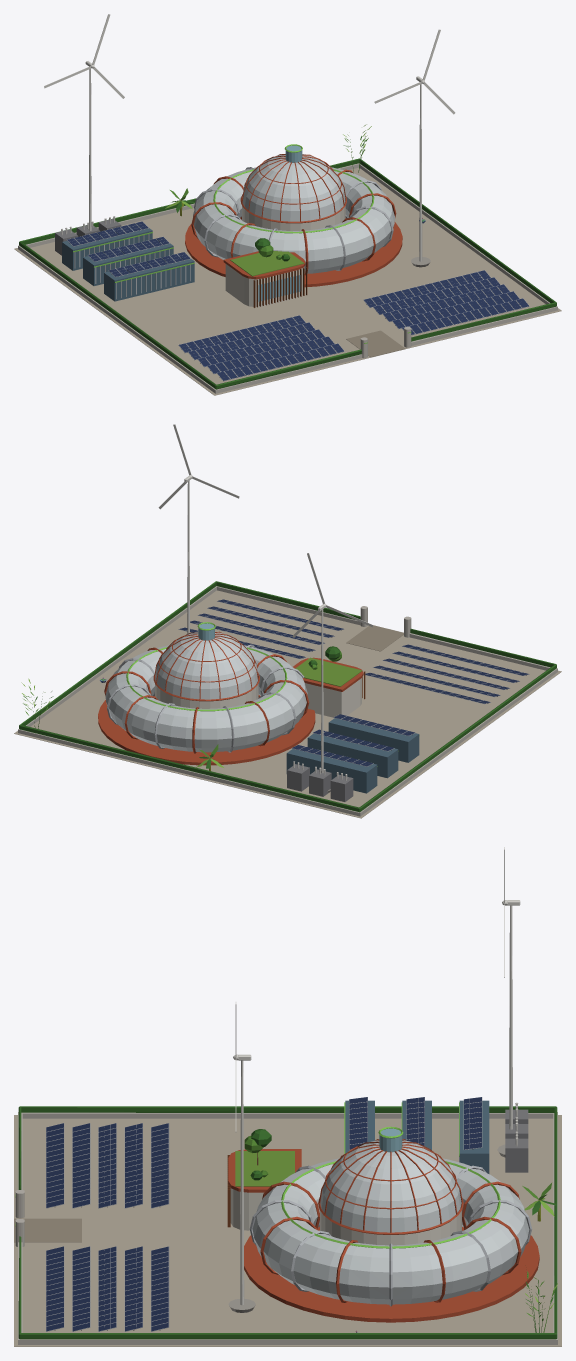
The model's file is power_plant.glb.
3 renders of one model, top to bottom at view 1: azimuth 30°, elevation 25°; view 2: azimuth 150°, elevation 25°; view 3: azimuth 270°, elevation 25°, orthographic. The views are drawn at different scales.
Visible parts, largest first — view 1: body, windows; view 2: body, windows; view 3: body, windows.
Part boxes in pixels (x1,y1,x2,y2): body: [14, 14, 561, 395]; windows: [73, 144, 411, 343]; body: [14, 424, 561, 818]; windows: [126, 622, 419, 766]; body: [14, 847, 561, 1346]; windows: [15, 1102, 500, 1248].
Size of the model in its own units: 48.16 by 30.6 by 47.9.
